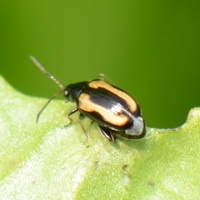insect: (30, 56, 145, 140)
